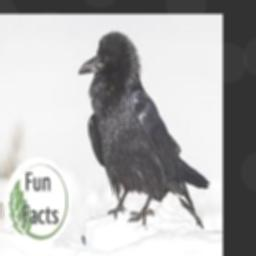Crow: (78, 31, 208, 229)
